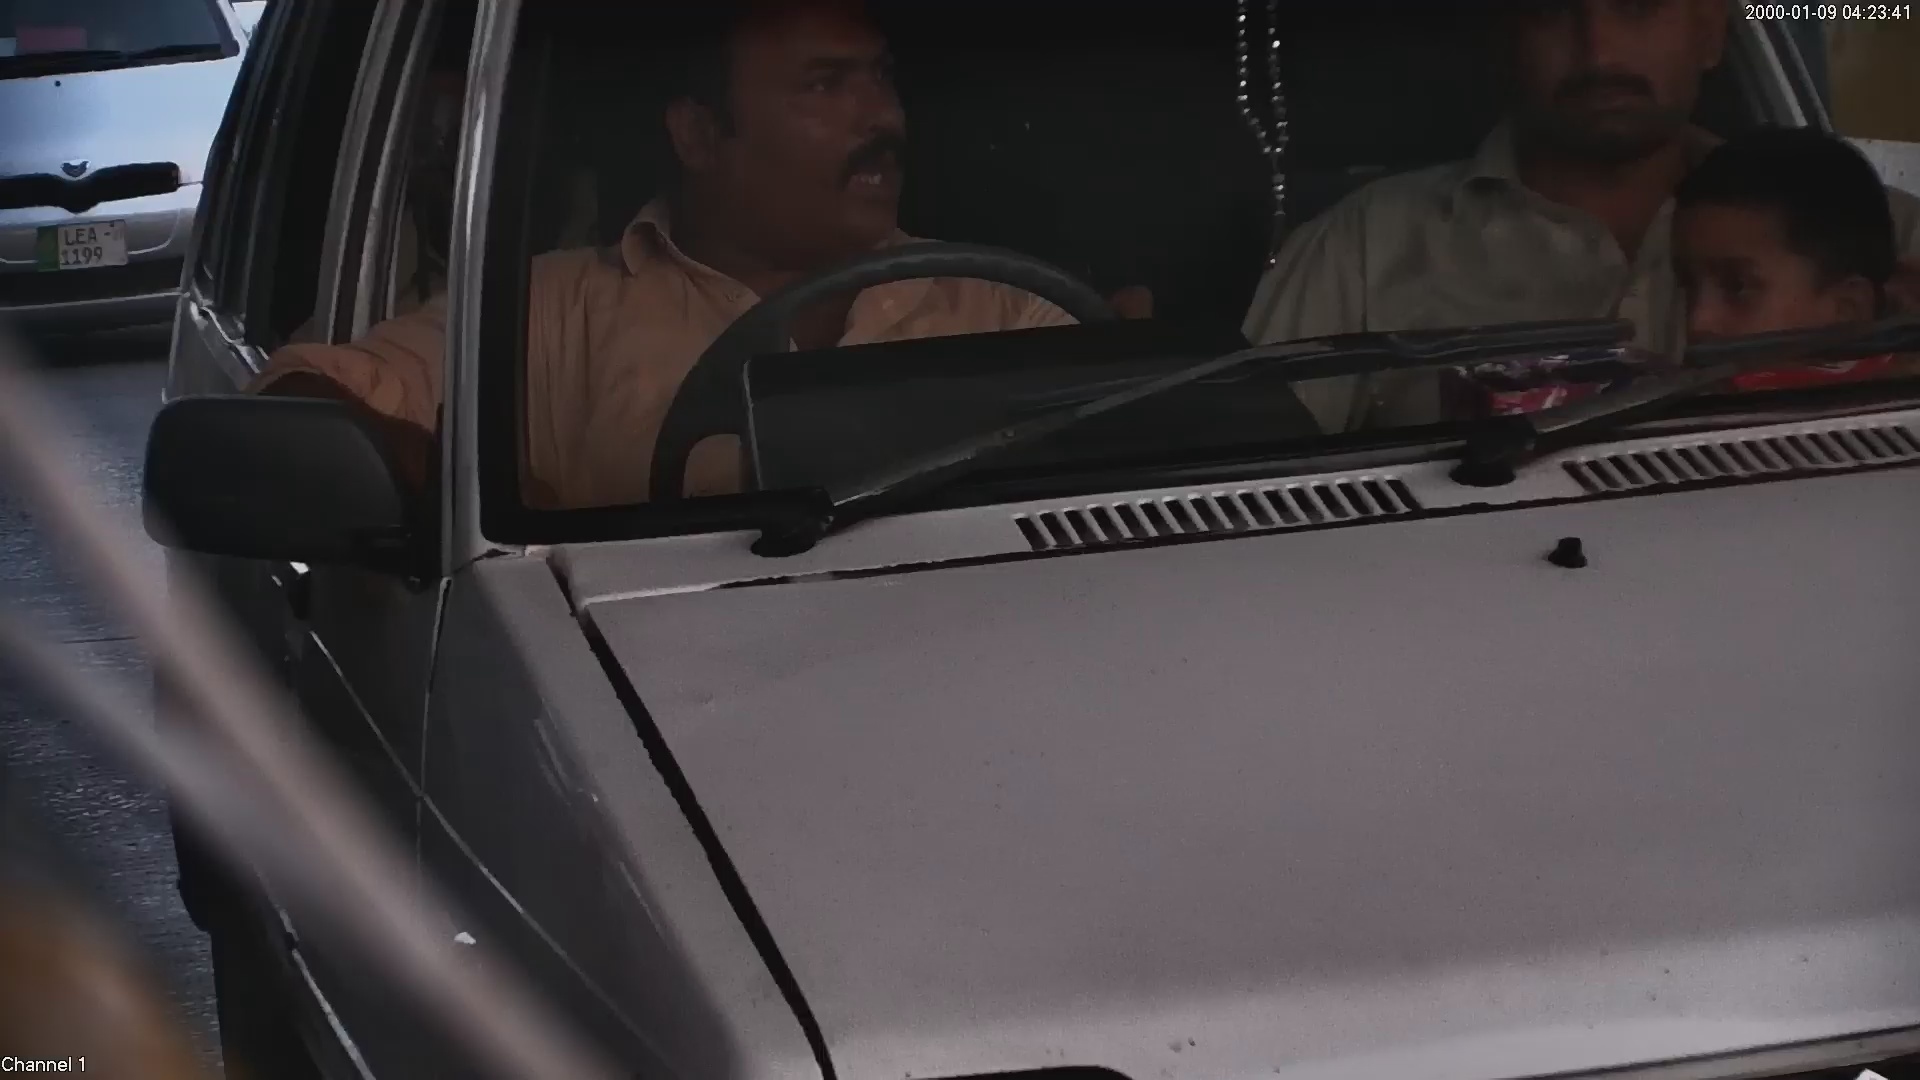Number_Plate: (28, 214, 143, 275)
